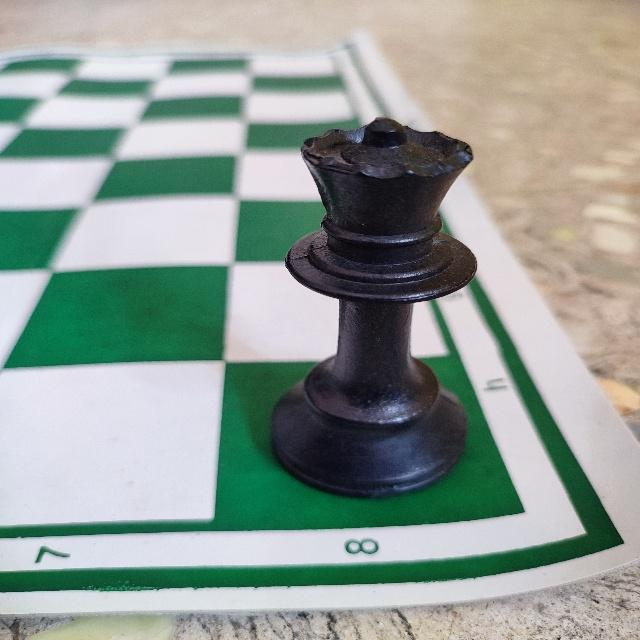Queen: (264, 114, 479, 501)
